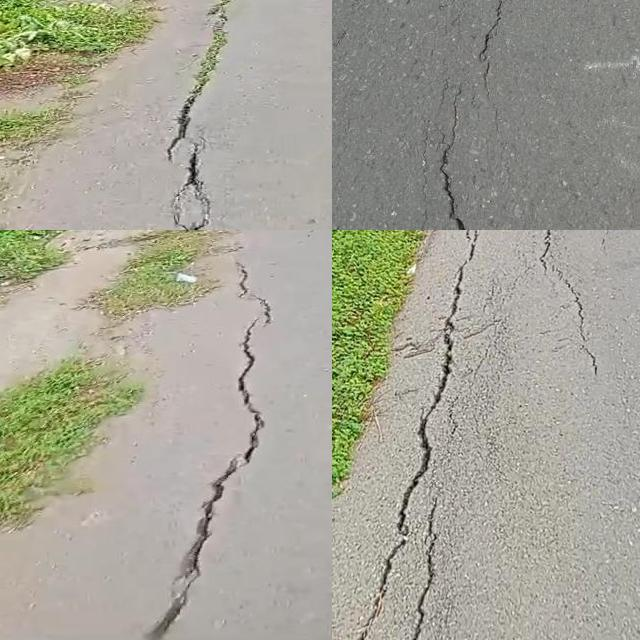Memanjang: (119, 244, 286, 640), (350, 230, 497, 640), (426, 0, 514, 230), (163, 0, 239, 230), (528, 230, 611, 378)
